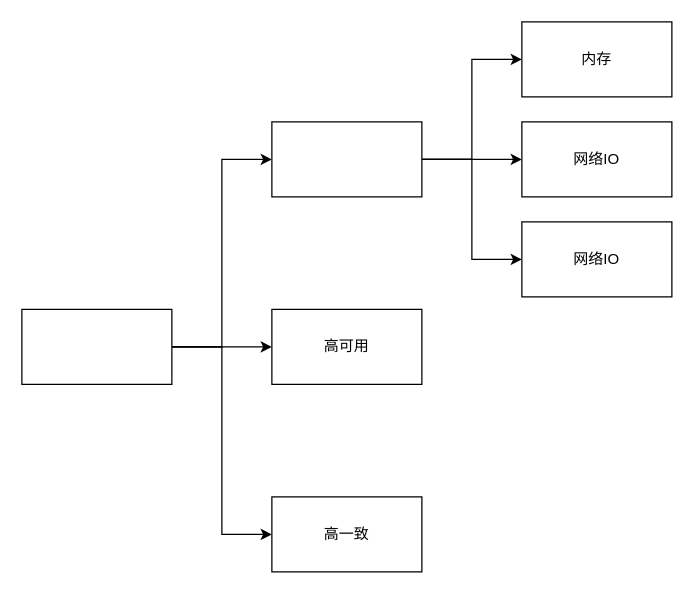
The diagram is 694 pixels wide and 594 high, and some of its shapes have lost their labels. The centre of each missing label's shape, as x and y in pixels:
系统三高: the point at 96,346
高性能: the point at 346,159
